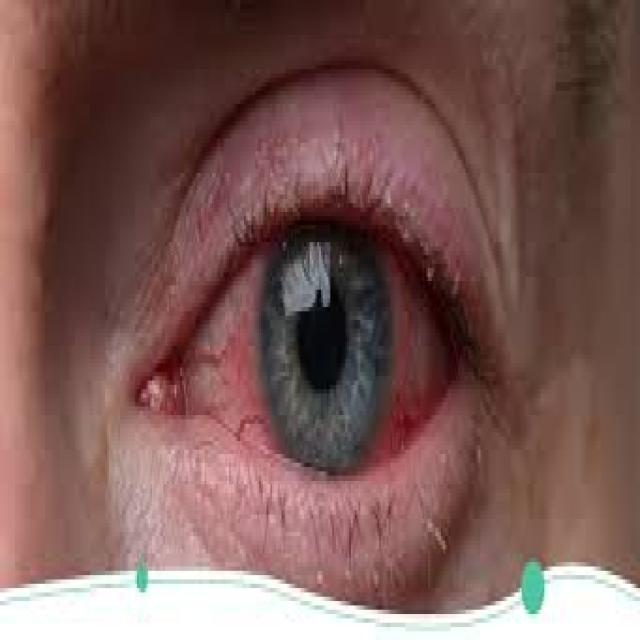Conjunctivitis: (136, 232, 484, 476)
